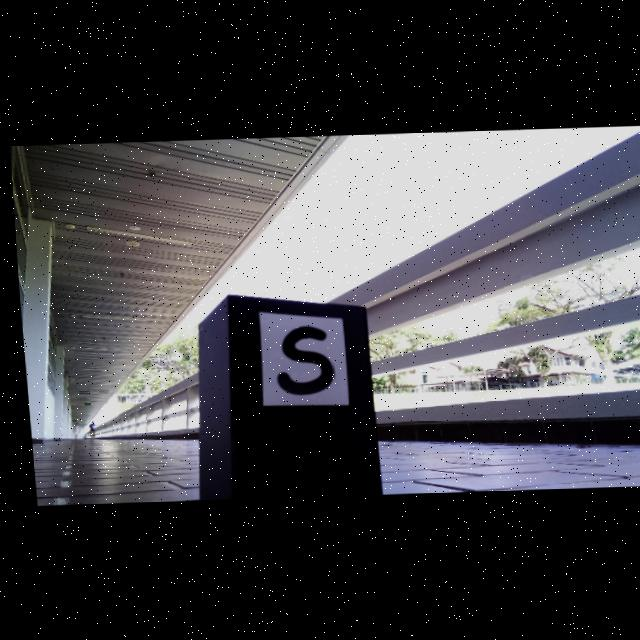S: (271, 327, 328, 396)
